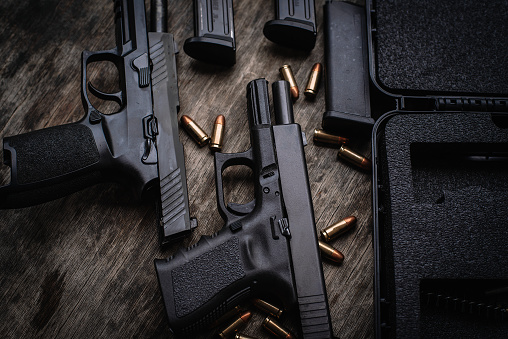gun: (150, 76, 339, 339), (0, 0, 200, 245)
